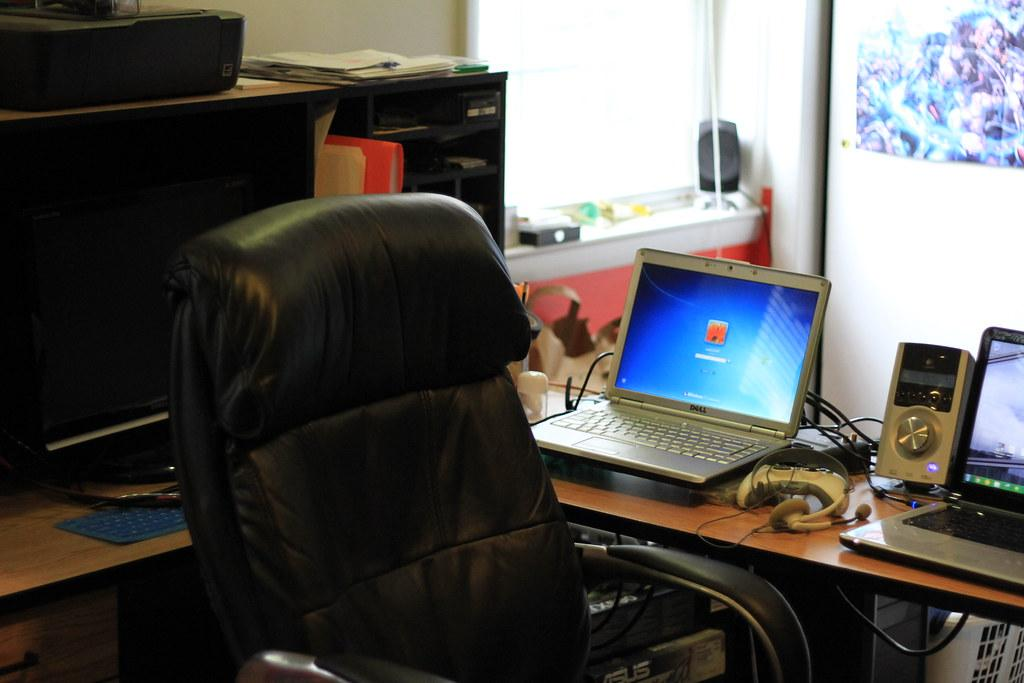computer: (2, 104, 311, 483), (529, 247, 833, 489), (840, 326, 1024, 591)
